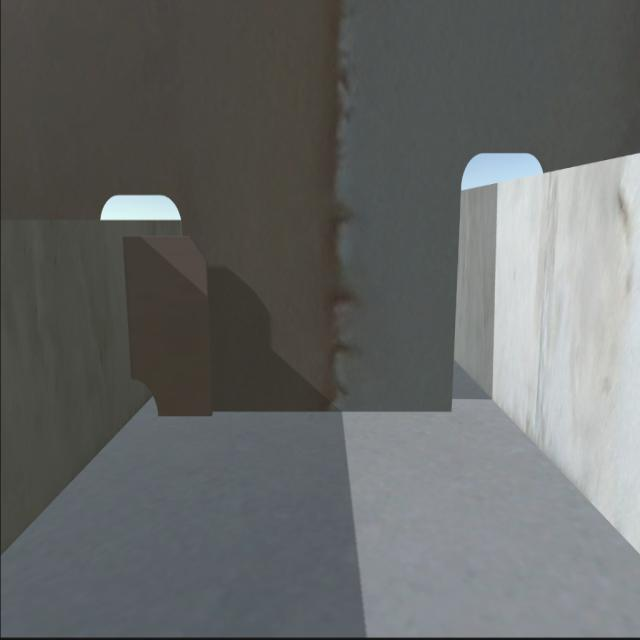fillet_hole: (130, 373, 166, 422)
fillet_yong_jeop_jang: (153, 399, 450, 420)
longi_yong_jeop_jang: (119, 239, 137, 379)
plate_CP03: (125, 232, 215, 417)
